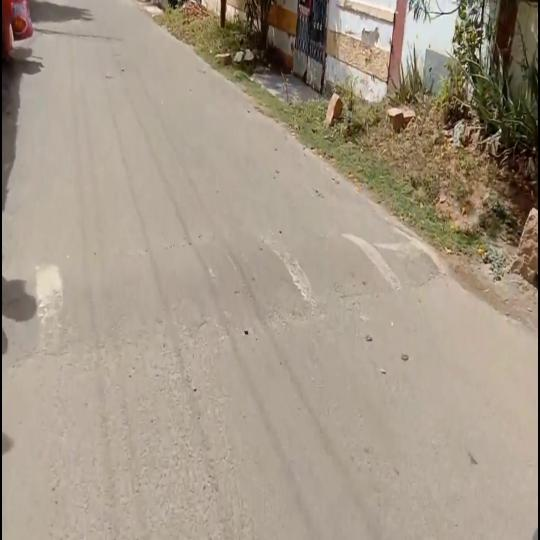Speed Bump: (2, 226, 446, 354)
